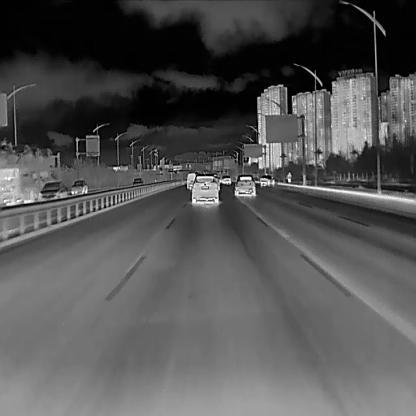car: (189, 175, 219, 205), (36, 181, 67, 200), (234, 174, 256, 196), (71, 178, 87, 194), (259, 175, 274, 186), (187, 173, 196, 189), (130, 177, 144, 185), (221, 174, 229, 184), (285, 171, 291, 182)
